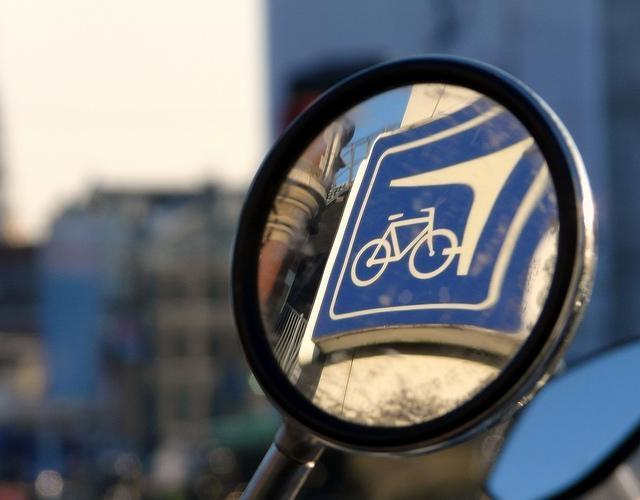bicycle: (350, 208, 460, 288)
